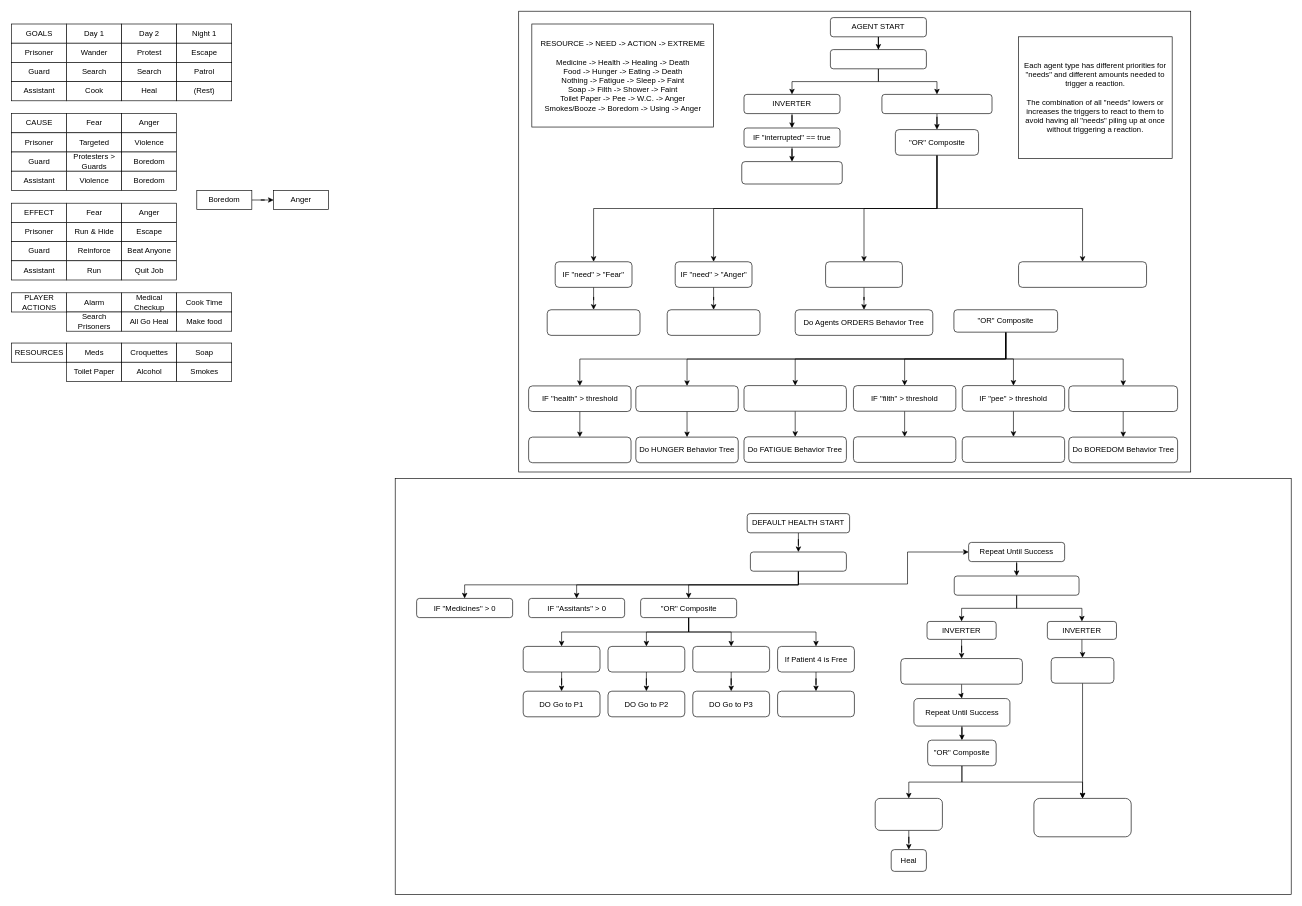
The diagram is 1302 pixels wide and 906 high, and some of its shapes have lost their labels. Each missing label, with the centre of its shape:
"AND" Composite: the point at 798,561
"Concurrent AND": the point at 878,59
30s Timeout: the point at 1082,670
Calculate need thresholds: the point at 936,104
Concurrent "AND" Composite: the point at 1016,585
Do Agent "Anger" Tree: the point at 713,322
Do Agent "Fear" Tree: the point at 593,322
Do Agent GOALS Behavior Tree: the point at 1082,274
DO Empty Patient N Spot: the point at 1082,817
Do FILTH Behavior Tree: the point at 904,449
DO Go to P4: the point at 815,704
Do HEALTH Behavior Tree: the point at 579,449
Do PEE Behavior Tree: the point at 1013,449
IF "boredom" > threshold: the point at 1123,398
IF "fatigue" > threshold: the point at 794,398
IF "hunger" > threshold: the point at 686,398
IF "Player Orders": the point at 863,274
IF Decorator "damage" > 0: the point at 908,814
IF Decorator Medic1 != nullptr && Medic1.state == "HEALING": the point at 961,671
If Patient 1 is Free: the point at 561,659
If Patient 2 is Free: the point at 646,659
If Patient 3 is Free: the point at 731,659
Occupied location = false && "interrupted" = false: the point at 791,172
